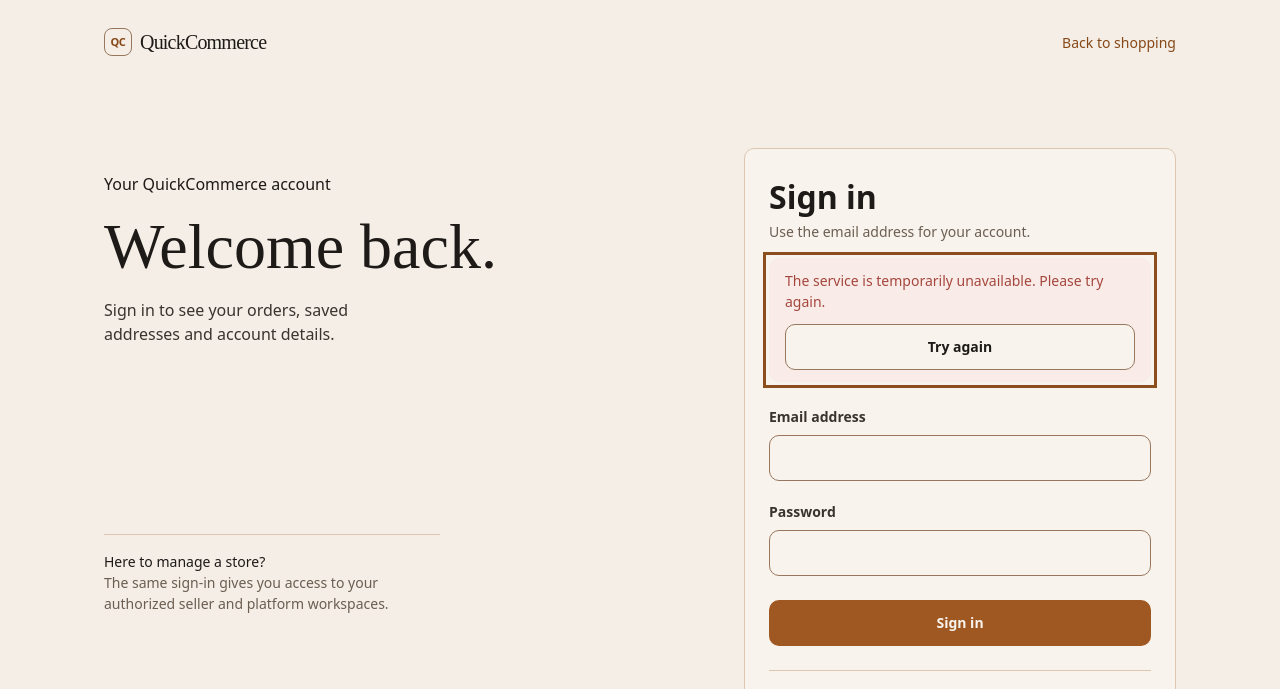
Test case: reports an initial session service failure on the login page and permits retry
The image size is (1280, 689).
Expected: the message shows "temporarily unavailable", [785,271,1103,311]
Click the button "Try again".
click(960, 347)  # box [785,324,1135,370]
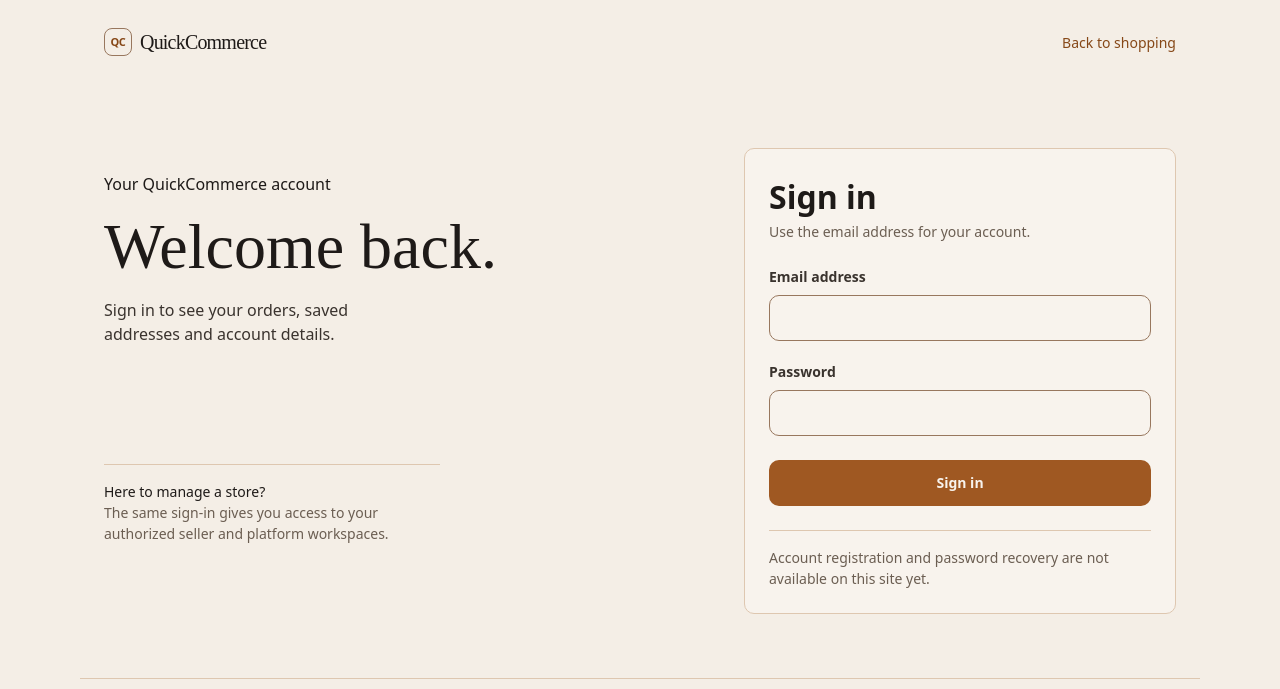
Expected: the button "Sign in" is enabled, [769,460,1151,506]
Now the message "The service is temporarily unavailable. Please try again. Try again" is gone
